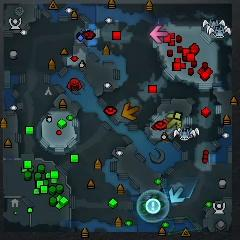Other: (145, 198, 160, 214), (138, 202, 148, 216)
x1: (150, 25, 168, 44)
x2: (166, 113, 182, 128)
x3: (169, 187, 185, 203)
x4: (152, 195, 166, 208)
x5: (121, 102, 139, 120)
